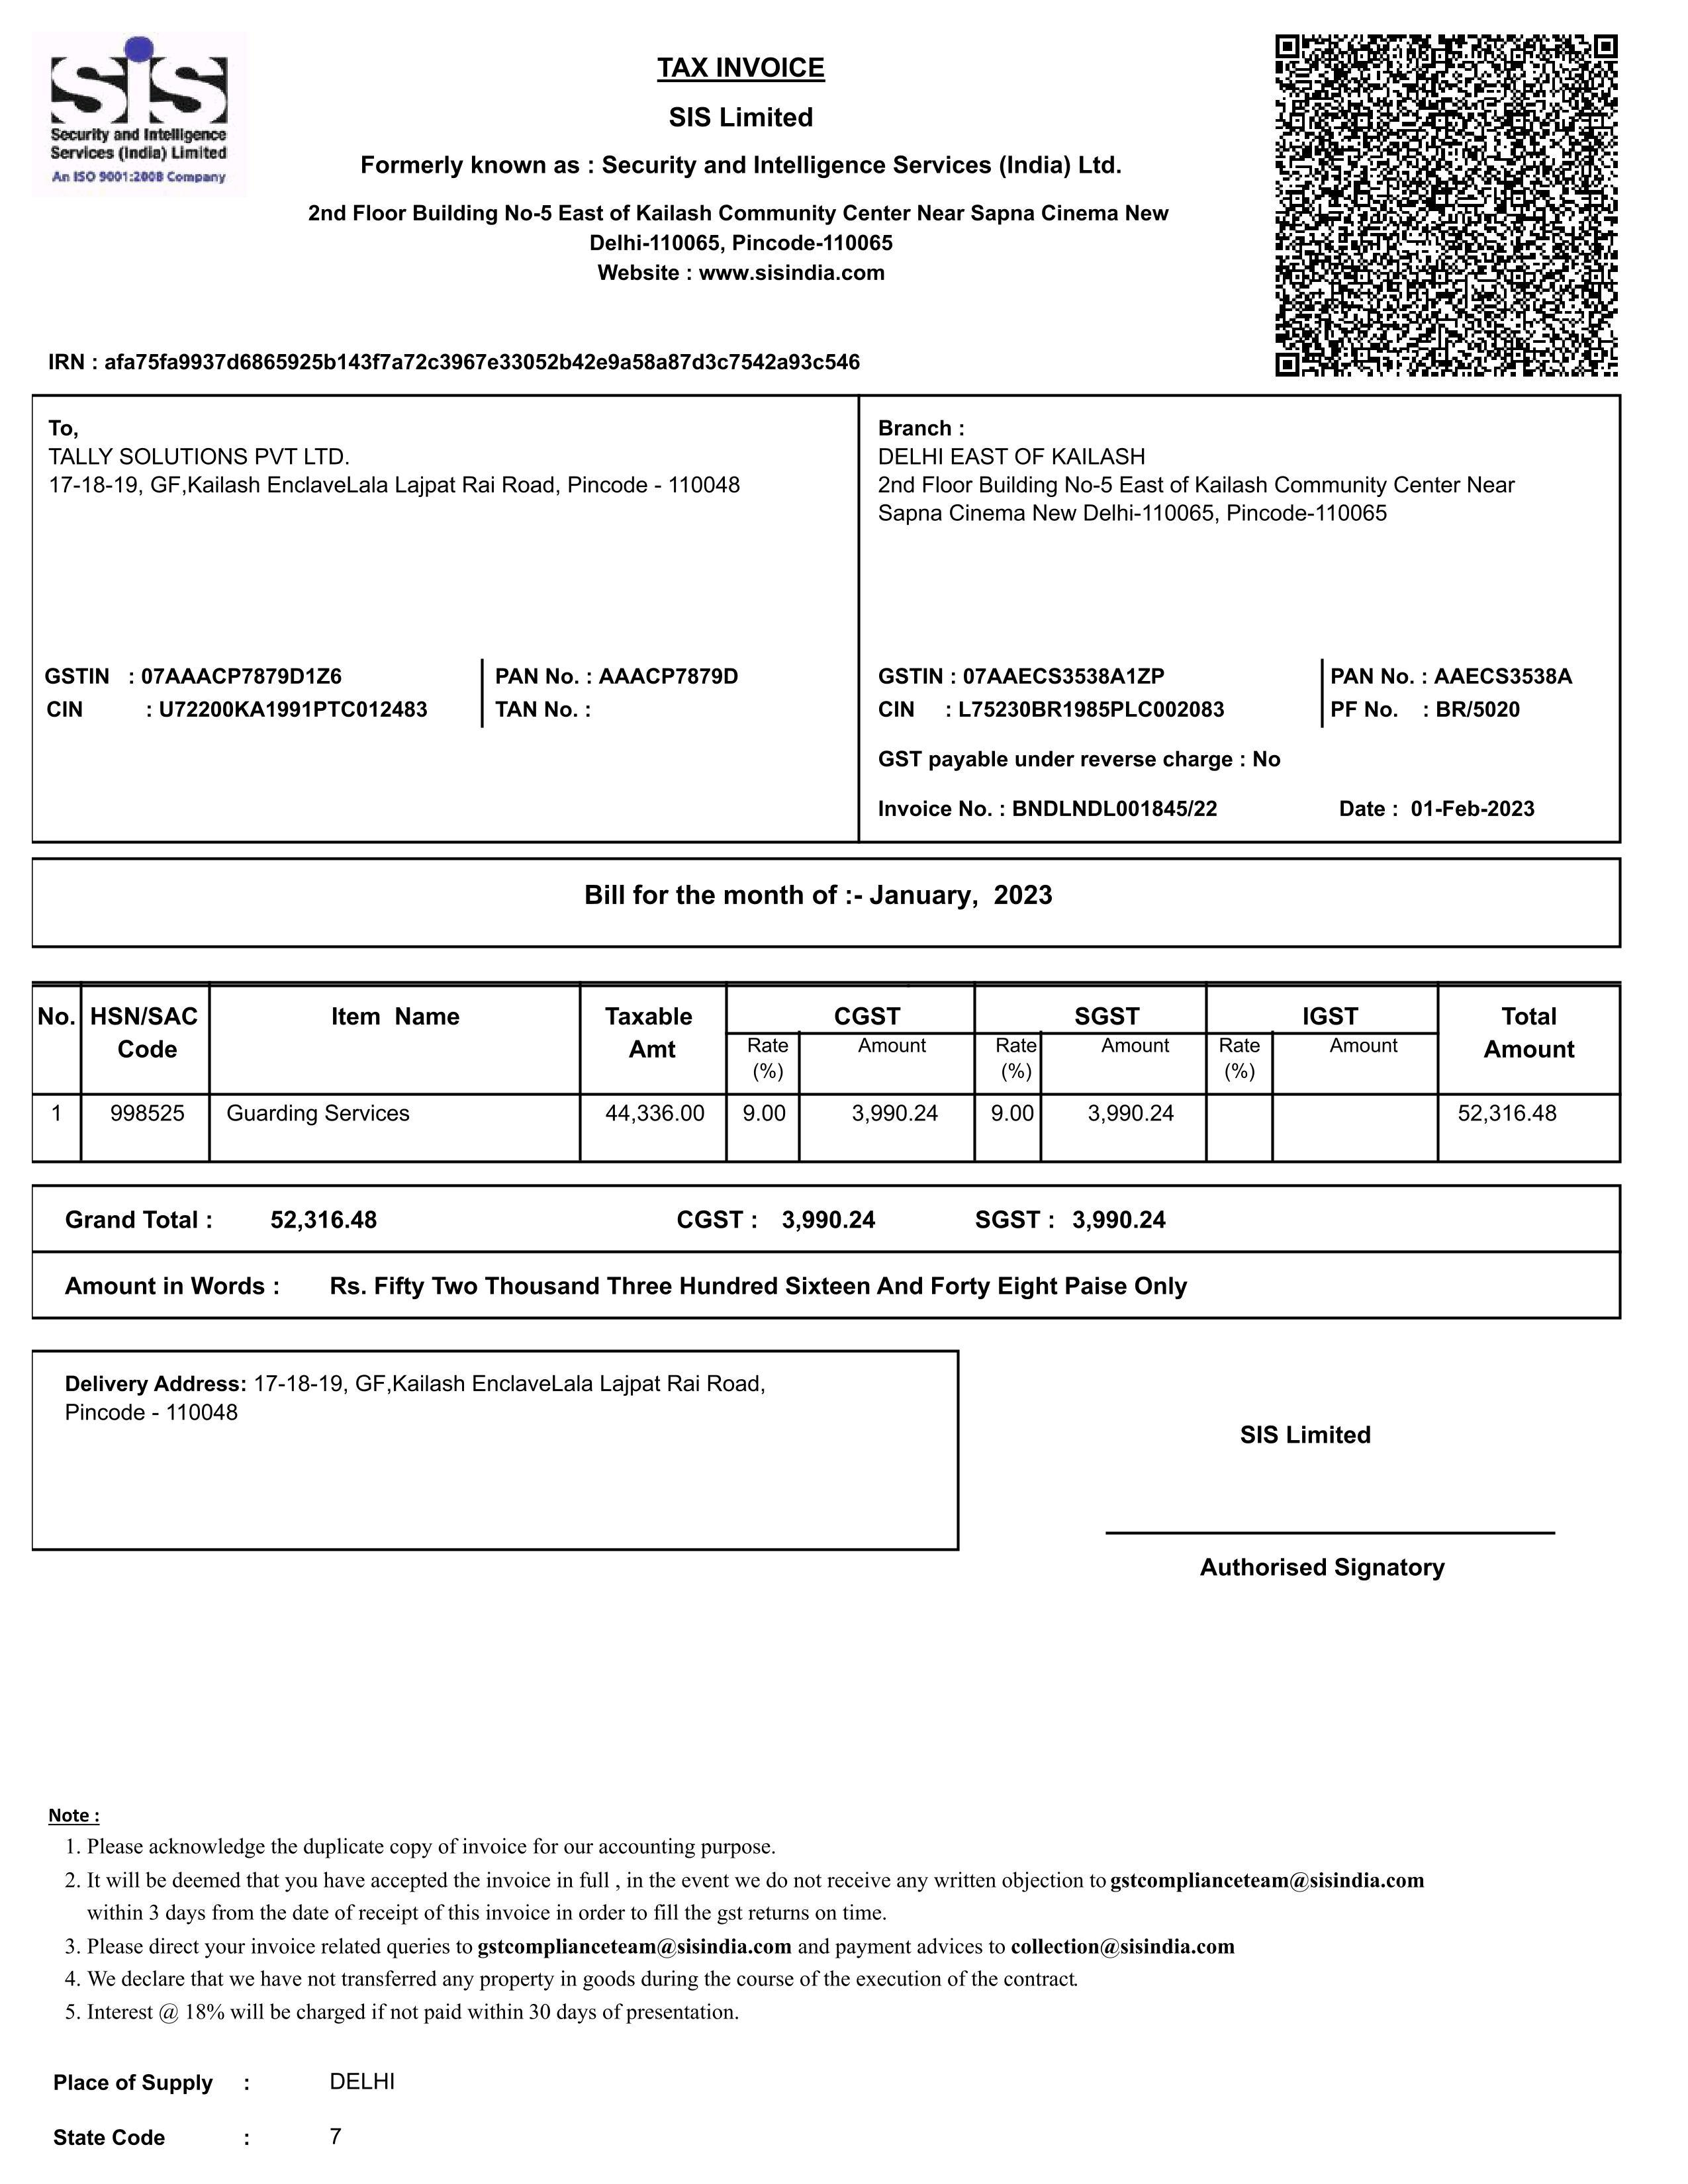InvoiceDate: (1408, 796, 1544, 823)
InvoiceNumber: (1005, 792, 1222, 826)
TotalAmount: (1454, 1099, 1566, 1131)
